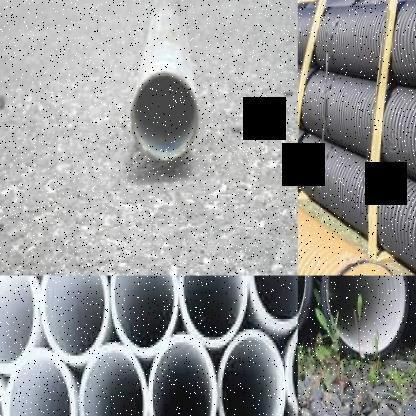pipe: (326, 276, 409, 354), (131, 69, 199, 162), (40, 276, 108, 364), (218, 330, 286, 416), (147, 332, 215, 416), (110, 275, 178, 356), (79, 342, 148, 416), (178, 275, 247, 346), (4, 347, 75, 416), (0, 275, 37, 374), (250, 275, 298, 330), (0, 360, 10, 416)
